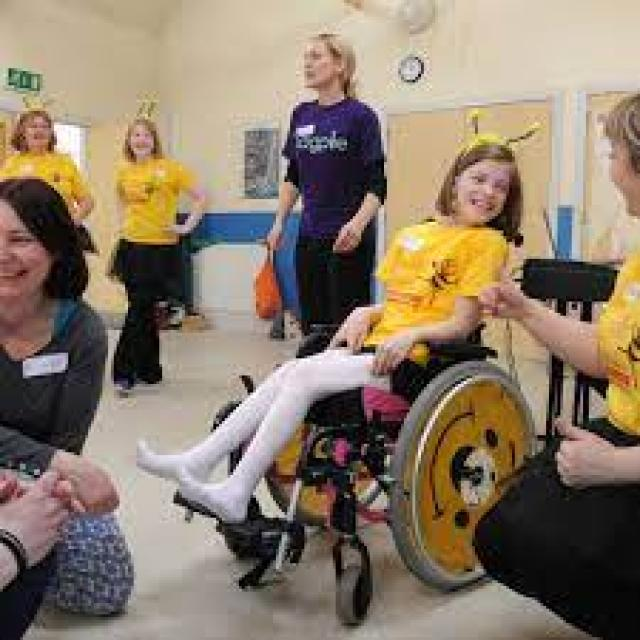wheelchairs: (167, 300, 547, 627)
